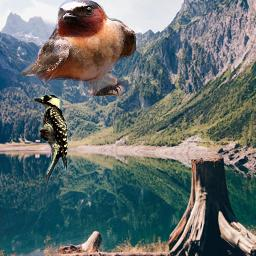Swallow: (21, 0, 136, 96)
Woodpecker: (32, 94, 70, 184)
